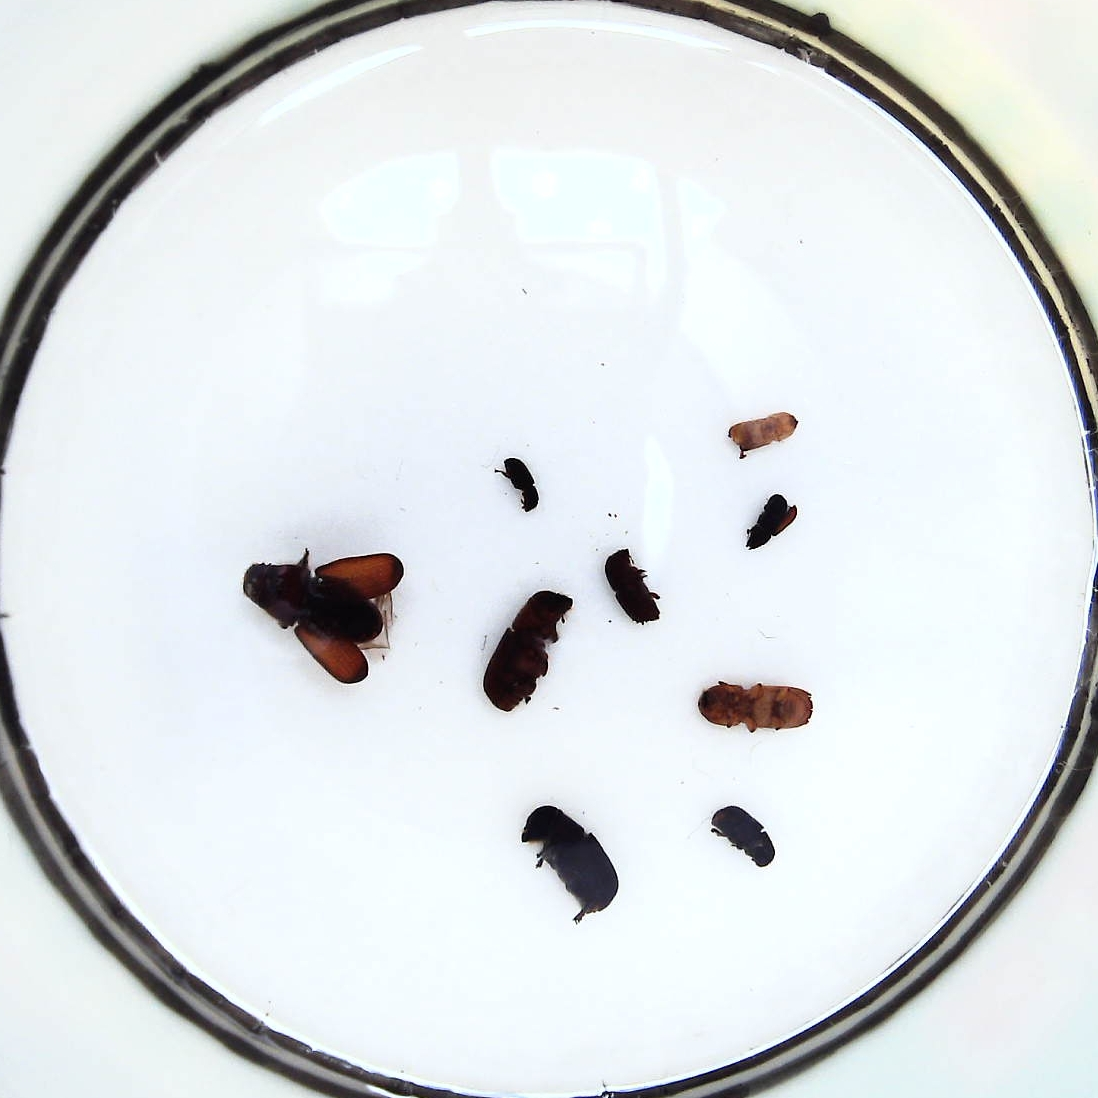Boerner: (698, 683, 813, 732)
Leconte: (243, 547, 402, 684), (482, 590, 572, 711), (520, 805, 620, 913)
acuminatus: (746, 494, 798, 550), (502, 457, 539, 514)
armandi: (711, 805, 776, 868)
coleoptera: (727, 412, 798, 450)
linnaeus: (605, 548, 659, 625)
